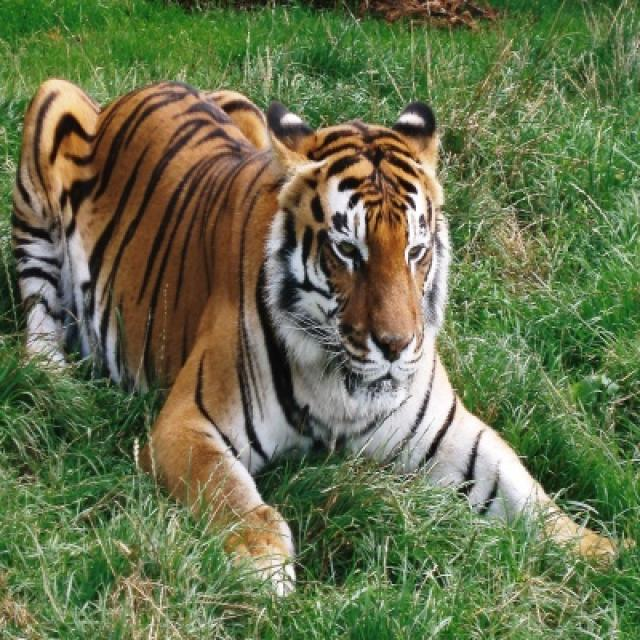Tiger: (1, 73, 622, 603)
